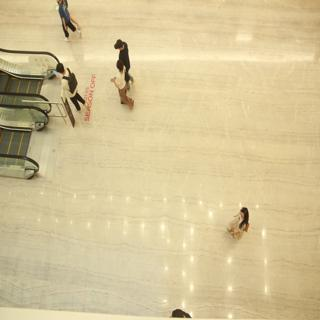person: (52, 64, 86, 116), (110, 58, 140, 111), (223, 198, 254, 249), (110, 31, 137, 68)
